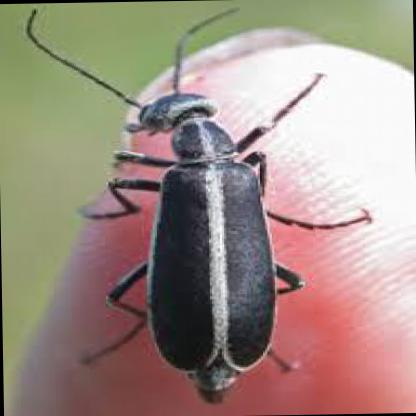blister beetle: (24, 7, 370, 405)
